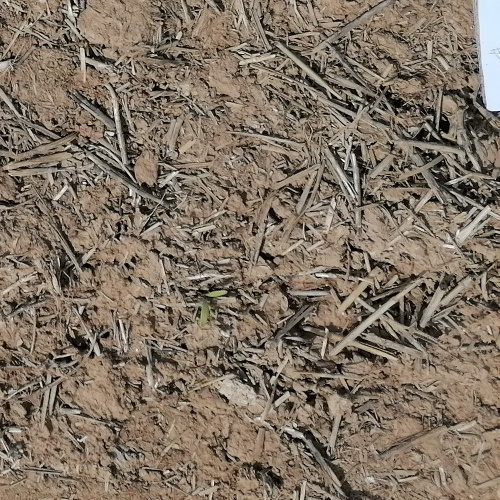beet: (198, 288, 226, 327)
